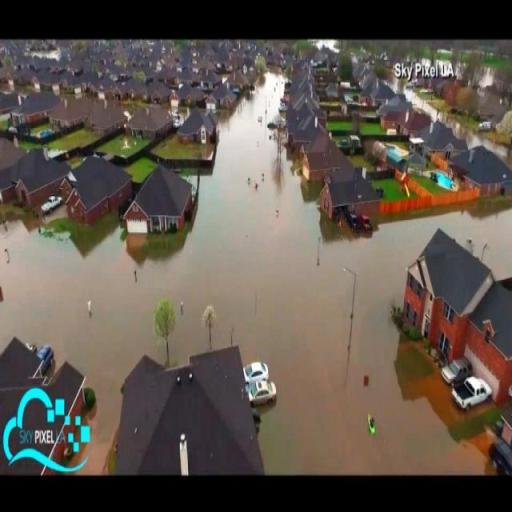flood: (0, 73, 512, 475)
house: (112, 341, 282, 481), (397, 215, 512, 407), (1, 339, 92, 473), (122, 164, 194, 246), (64, 150, 130, 232), (3, 148, 72, 219), (322, 170, 374, 228), (460, 144, 511, 202), (302, 132, 344, 190), (421, 125, 465, 166), (287, 95, 320, 149), (128, 102, 170, 140), (176, 106, 212, 149), (91, 104, 129, 140), (21, 89, 57, 126), (376, 94, 411, 128), (210, 79, 238, 114), (60, 98, 88, 130), (180, 84, 205, 106)
